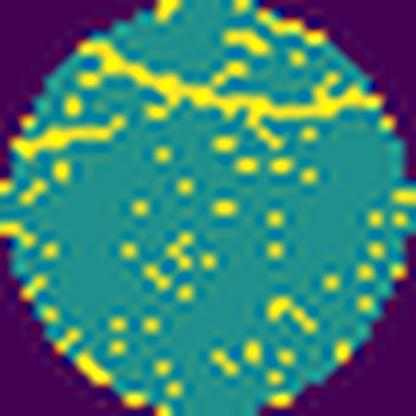Scratch: (78, 36, 386, 154), (9, 110, 131, 166)
